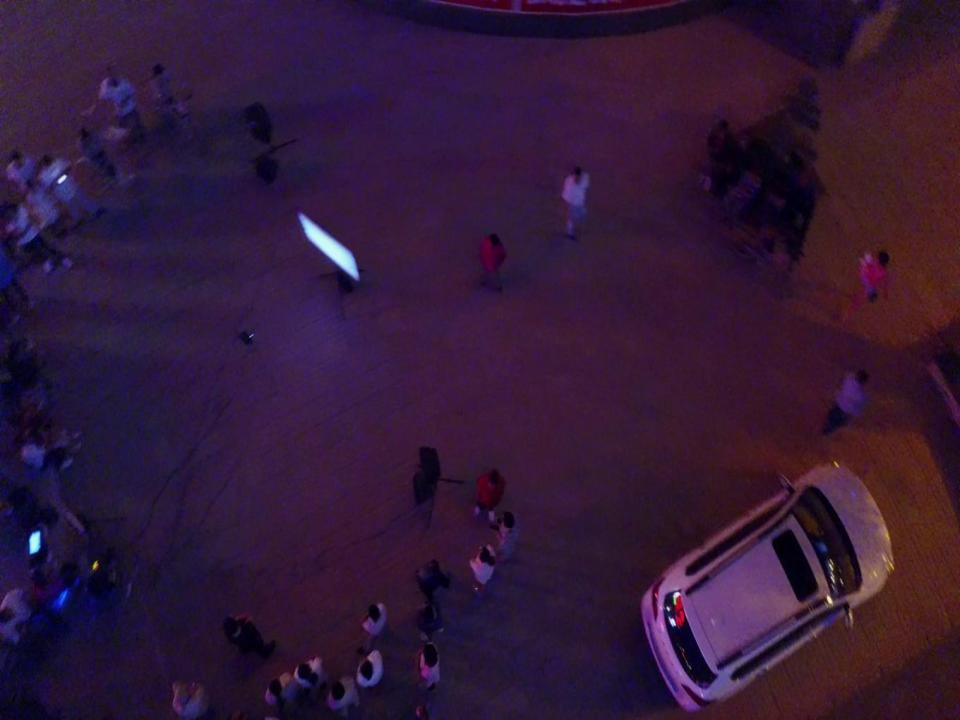car: (636, 454, 898, 717)
